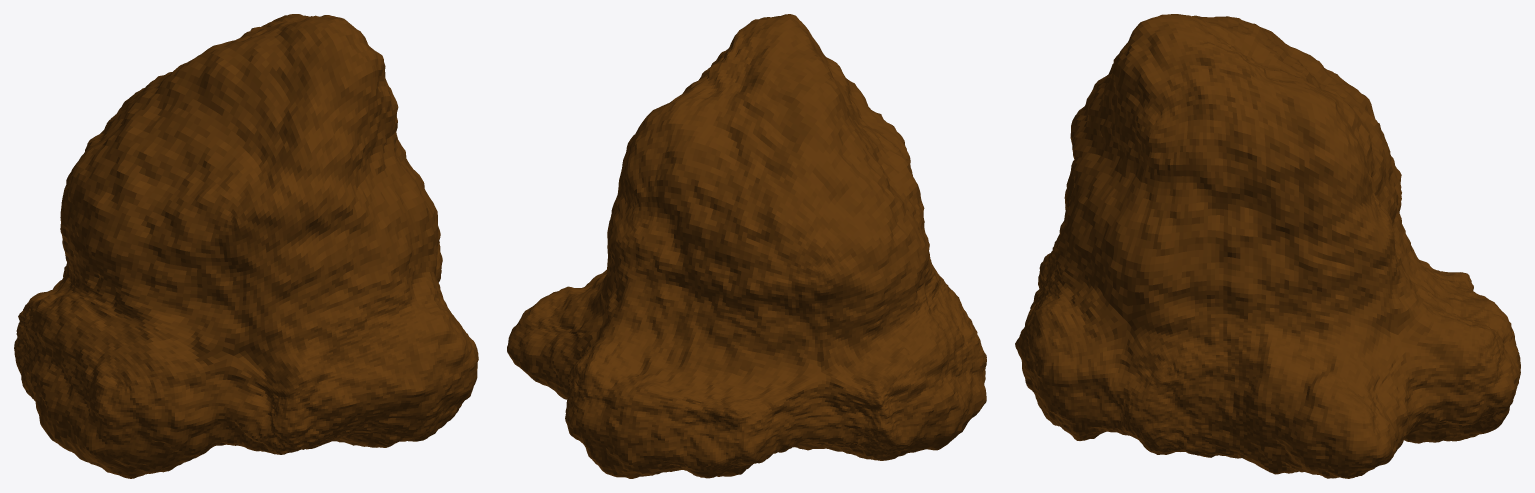
Rendered from Rock2.fbx.
3 renders of one model, left to right at view 1: azimuth 30°, elevation 25°; view 2: azimuth 150°, elevation 25°; view 3: azimuth 270°, elevation 25°, orthographic. The views are drawn at different scales.
Visible parts, largest first — view 1: Cube; view 2: Cube; view 3: Cube.
Part boxes in pixels (x1,y1,x2,y2): Cube: (14,14,478,478); Cube: (507,14,986,478); Cube: (1015,14,1520,478).
Bounding box in the file's own units: 801 × 713 × 790.
